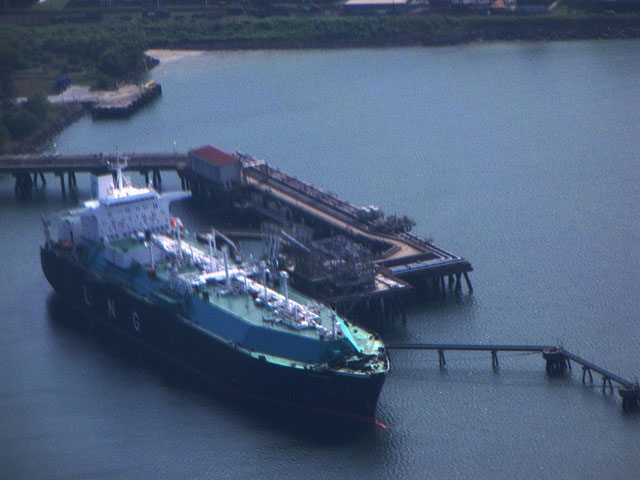LNG_ship: (40, 156, 392, 426)
